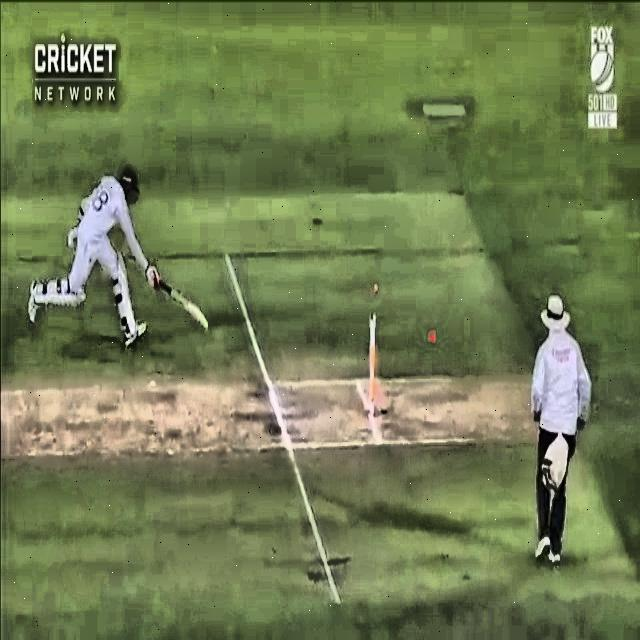Ball: (417, 318, 442, 350)
Bat: (139, 263, 213, 333)
Dis_Wicket: (357, 260, 392, 429)
Pitch_Line: (223, 253, 339, 606)
